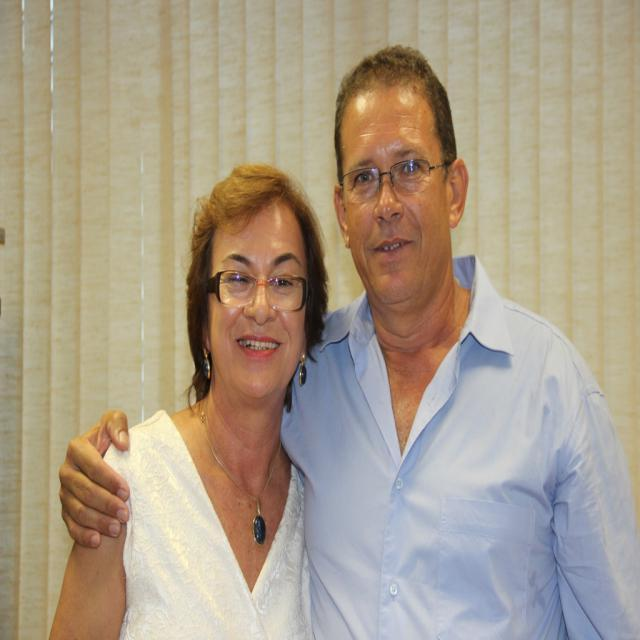closed-mouth: (371, 237, 413, 261)
